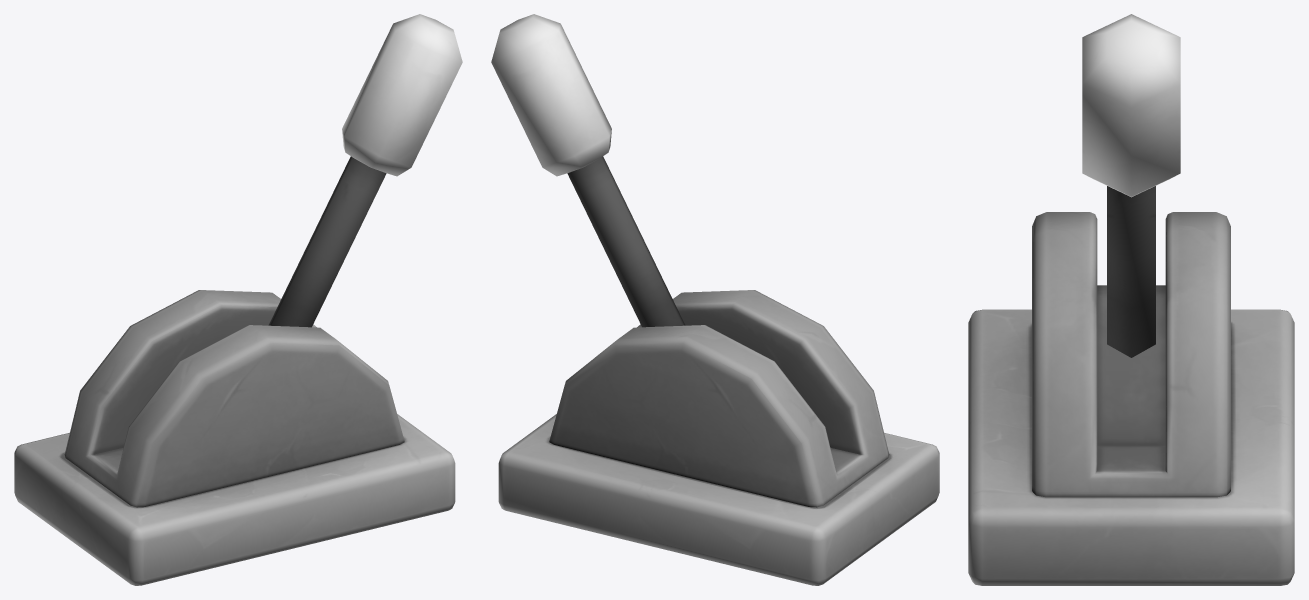
File: Controller_02.fbx
3 renders of one model, left to right at view 1: azimuth 30°, elevation 25°; view 2: azimuth 150°, elevation 25°; view 3: azimuth 270°, elevation 25°, orthographic. The views are drawn at different scales.
Parts seen in each view (by area): view 1: Controller_02; view 2: Controller_02; view 3: Controller_02.
Boxes of the visible parts, x1,y1,x2,y2 form: Controller_02: (14,14,462,585); Controller_02: (491,14,939,585); Controller_02: (968,14,1294,585).
Size of the model in its own units: 2.09 by 2.27 by 1.15.
